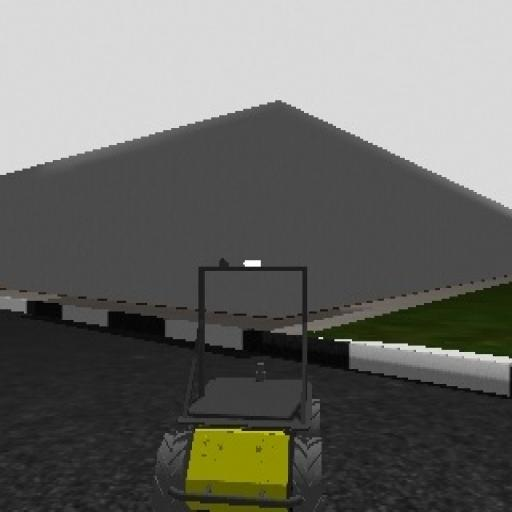huskya200: (138, 245, 331, 512)
